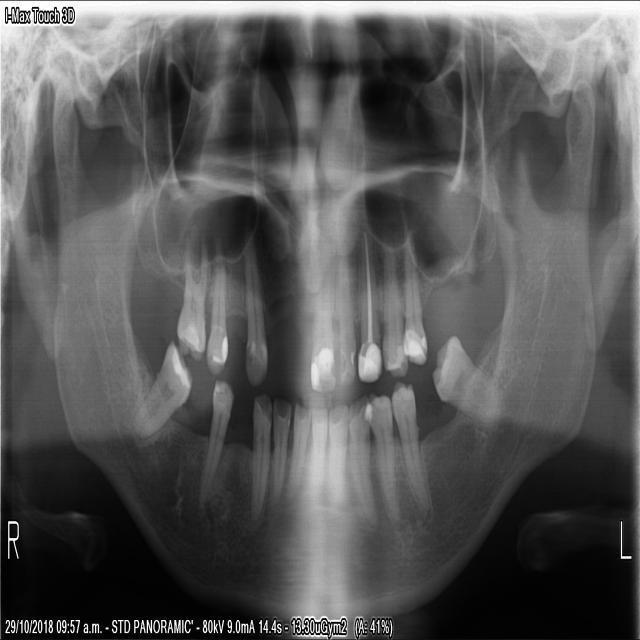LCD: (348, 393, 375, 527)
LCU: (357, 232, 382, 385)
LID: (327, 397, 350, 502), (309, 403, 327, 490)
LIU: (308, 238, 338, 399), (334, 243, 355, 393)
LMD: (429, 330, 504, 429)
LPMD: (391, 380, 430, 517), (363, 393, 399, 513)
LPMU: (382, 234, 410, 375), (403, 234, 430, 367)
RCD: (249, 393, 272, 519)
RID: (271, 397, 293, 504), (287, 400, 311, 494)
RMD: (129, 335, 194, 439)
RMU: (175, 229, 207, 362), (205, 252, 229, 372)
RPMD: (199, 377, 235, 500)
RPMU: (240, 233, 269, 385)
